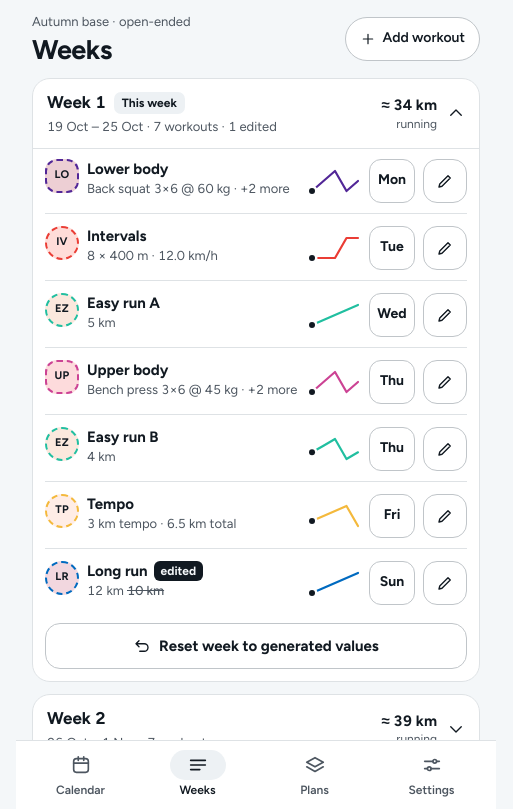
inline edit and reset › resets one workout from its editor
Expected: the heading "Weeks" is shown, 32,32 -> 112,66
Click the button named "Edit Long run inline": (445, 583) 423,561 -> 467,605
(page scrolled)
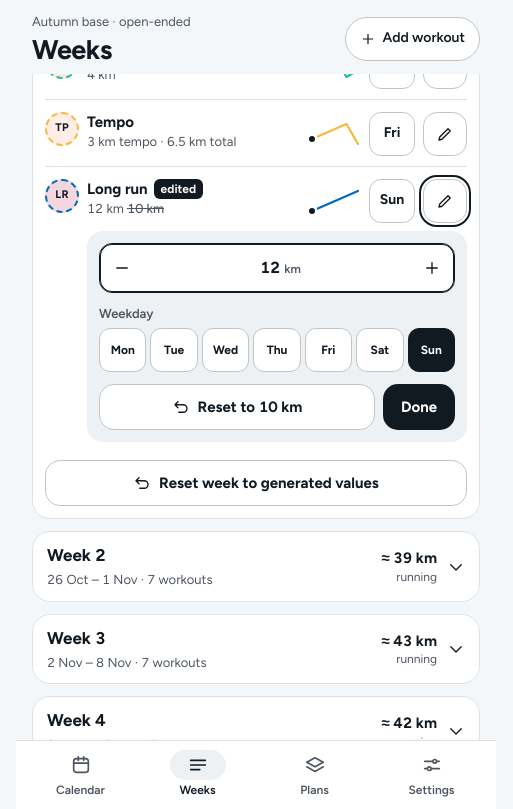
Click the button "Reset to 10 km": (237, 407) 99,384 -> 375,430
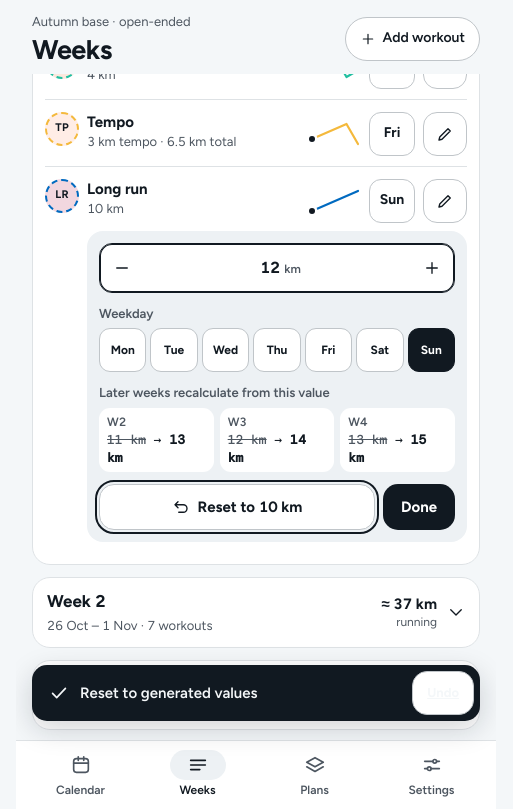
Expected: the text "Reset to generated values" is shown, 80,683 -> 258,703
